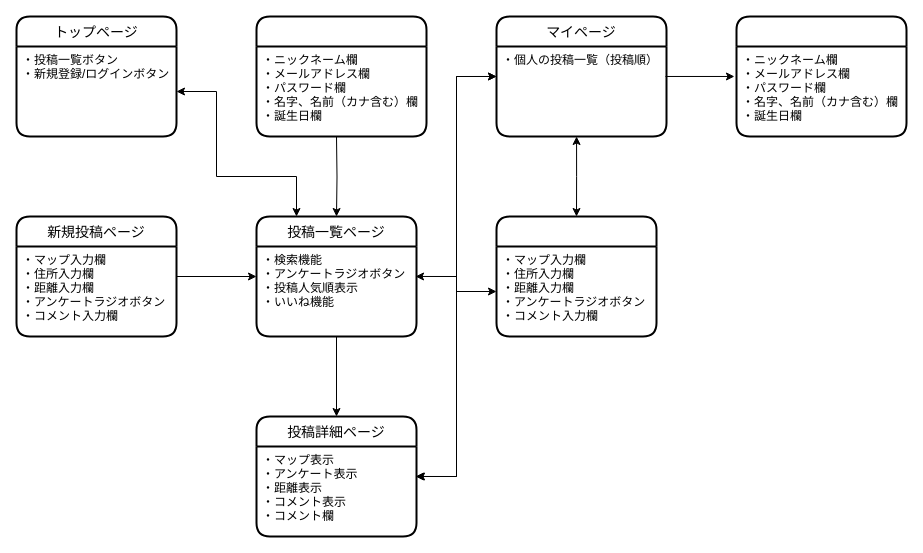
This 923x553 diagram has some shape labels left out. Each missing label, with the box of its shape:
個人情報編集ページ: (735, 15, 907, 137)
投稿編集ページ: (495, 215, 657, 337)
新規登録/ログインページ: (255, 15, 427, 137)
